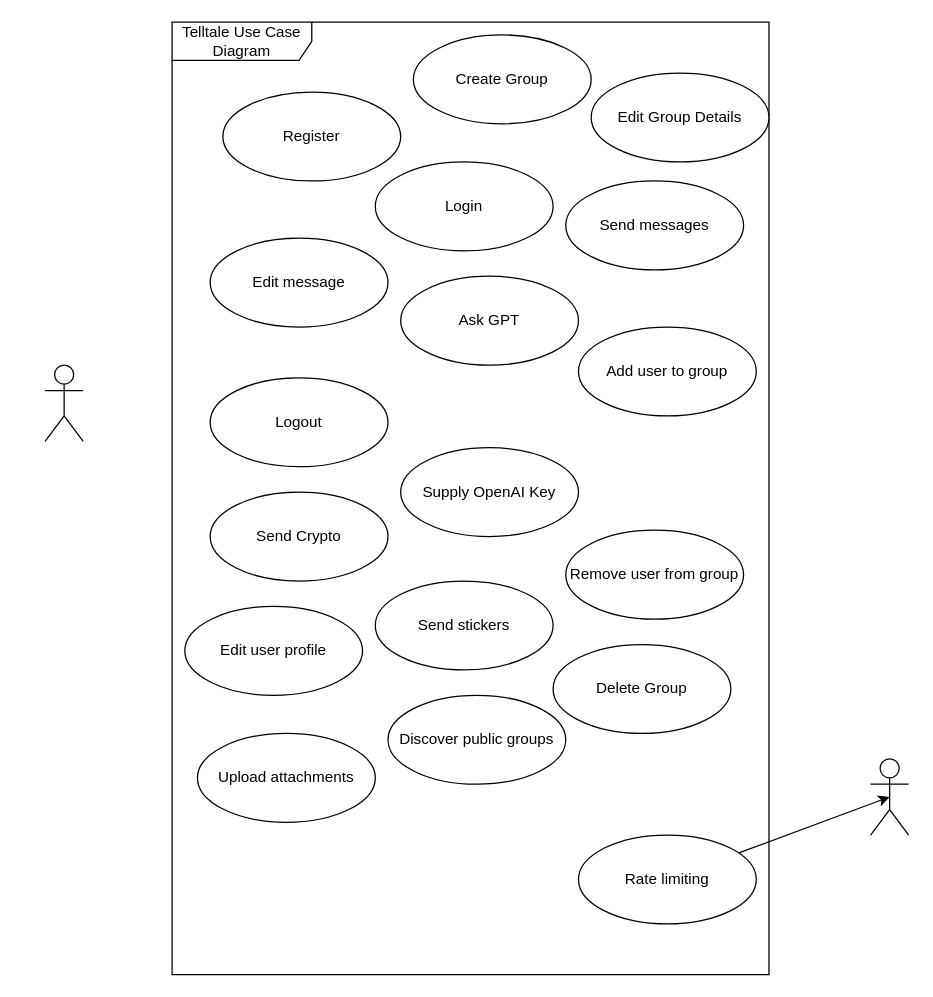
Image size: 933x997. Some labels were removed from this diagram. The shapes that lost their labels are listed below. From the top down, each one's centre as x and y in pixels, then its label:
At (x=63, y=402): "Normal User".
At (x=889, y=796): "Server".
